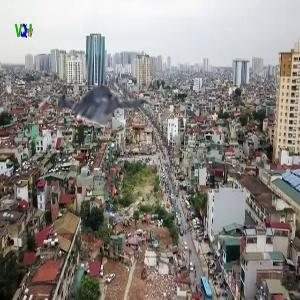drone: (37, 51, 156, 170)
